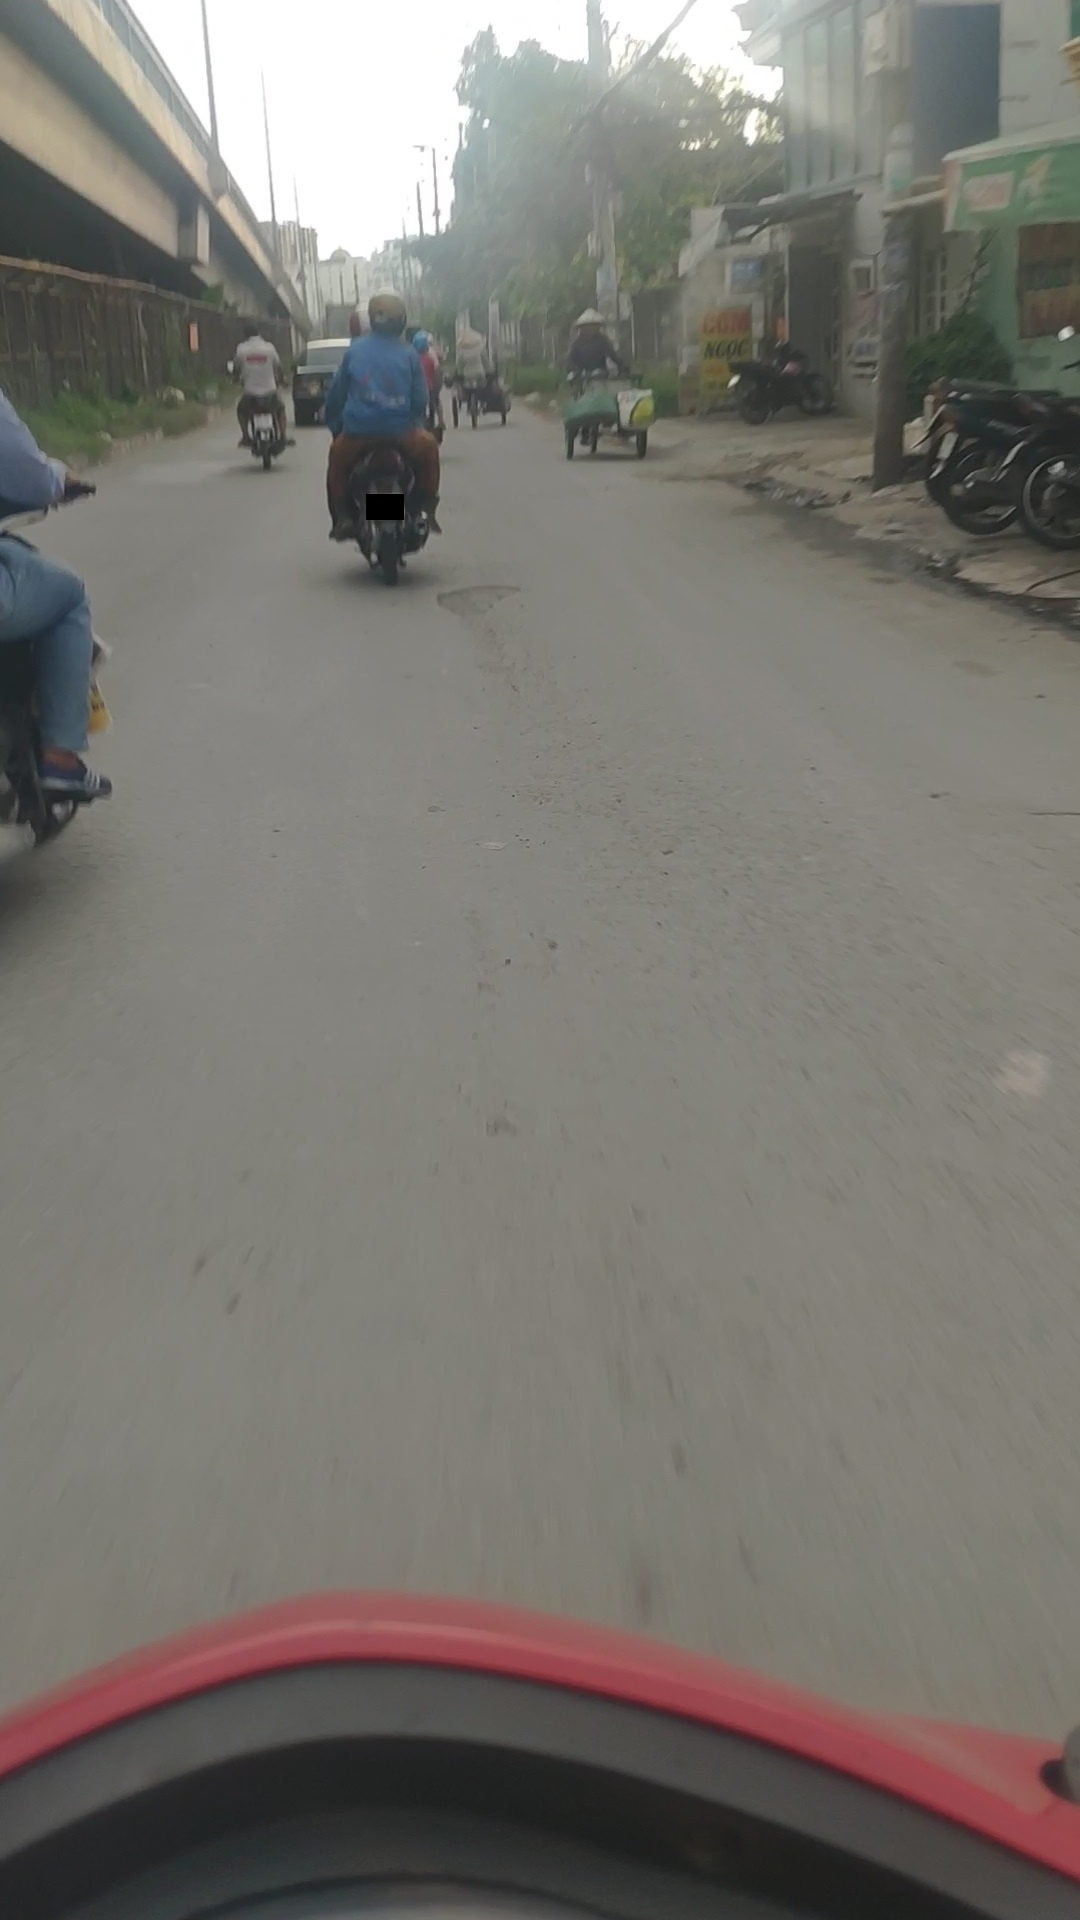hole: (431, 578, 527, 622), (737, 477, 775, 498)
